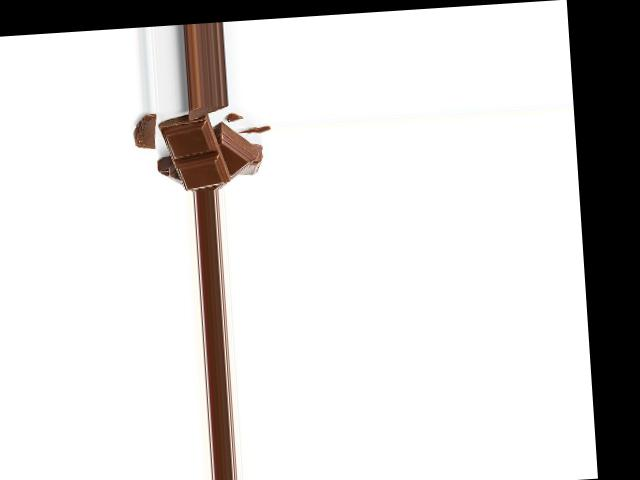chocolate: (160, 114, 231, 189)
